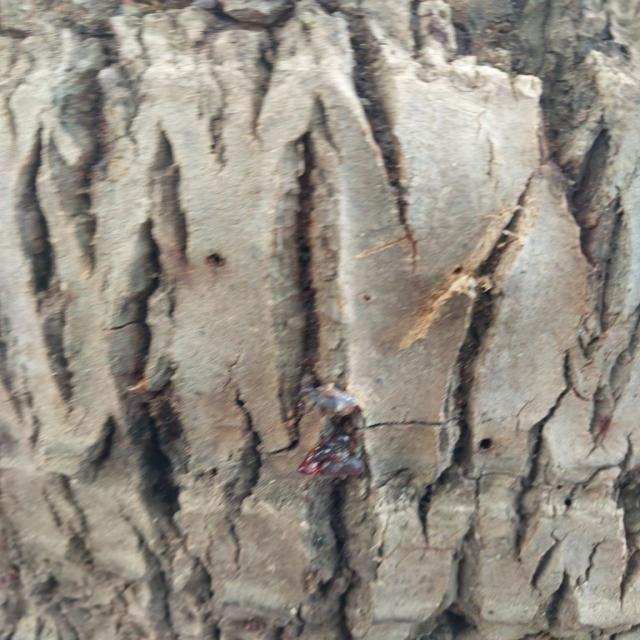stembleeding: (340, 207, 540, 384), (94, 178, 245, 339)
